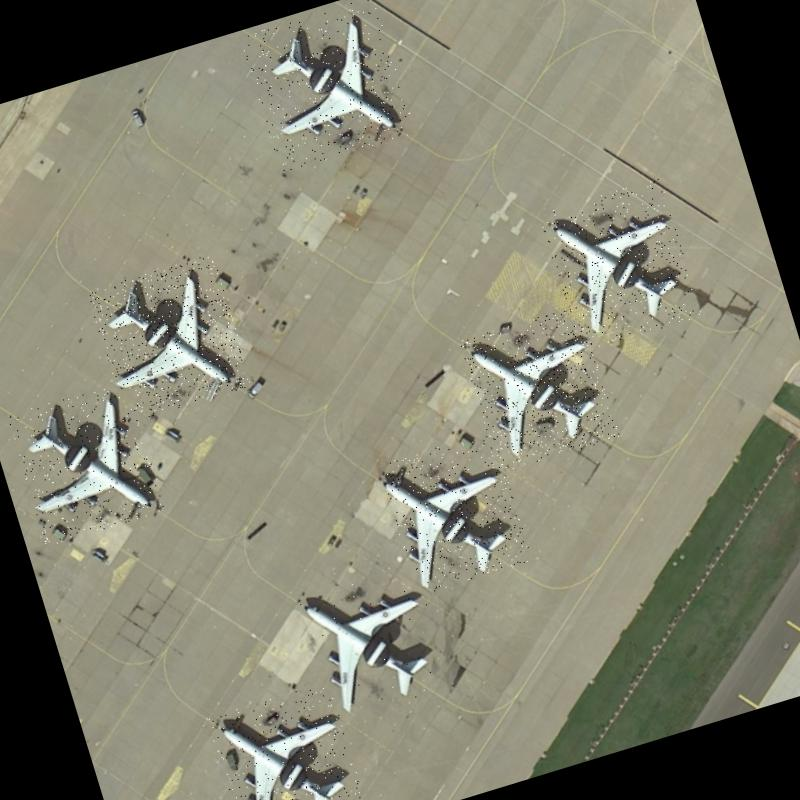A7: (239, 0, 416, 173), (538, 177, 702, 353), (86, 253, 254, 424), (460, 304, 620, 474), (6, 379, 167, 547), (296, 556, 453, 724), (378, 430, 533, 596), (207, 681, 370, 800)
